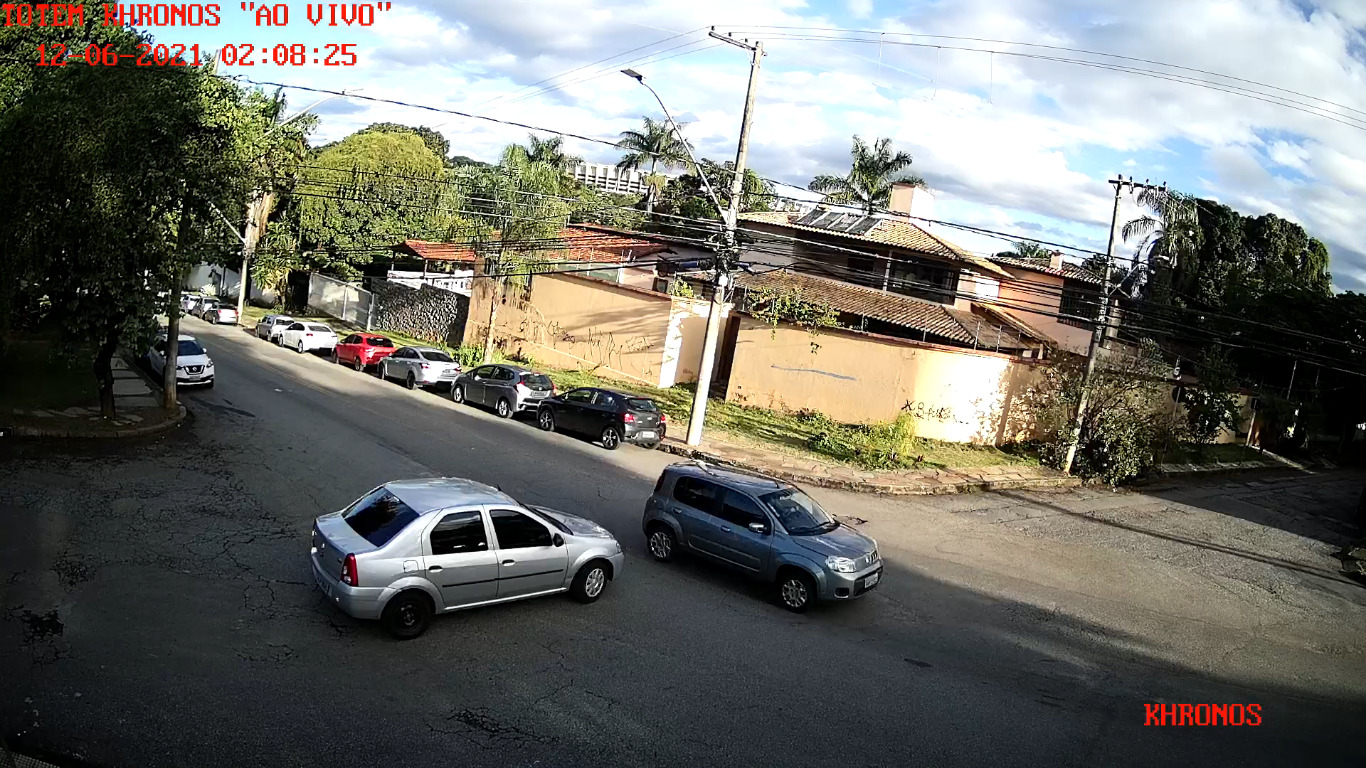car: (309, 476, 624, 638), (641, 460, 883, 614), (537, 386, 667, 451), (450, 363, 557, 420), (378, 344, 462, 390), (146, 333, 215, 389), (333, 331, 395, 369), (278, 320, 338, 354)
